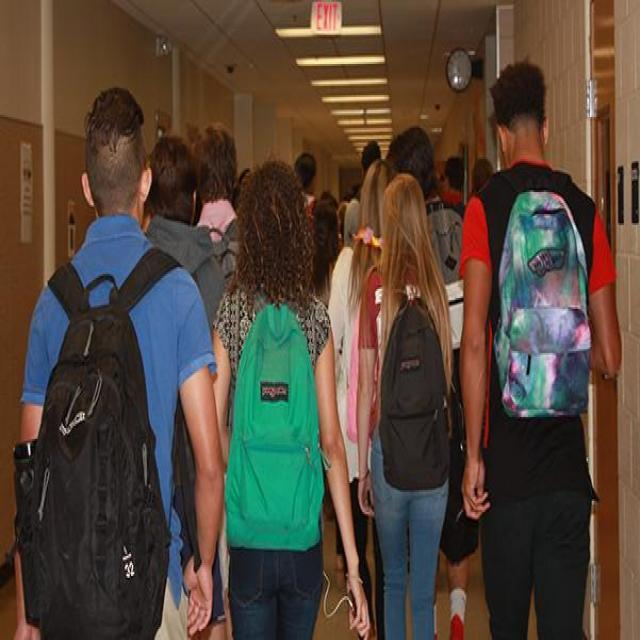Backpacks: (17, 277, 172, 639), (222, 300, 324, 552), (498, 190, 592, 418), (380, 298, 453, 492)
